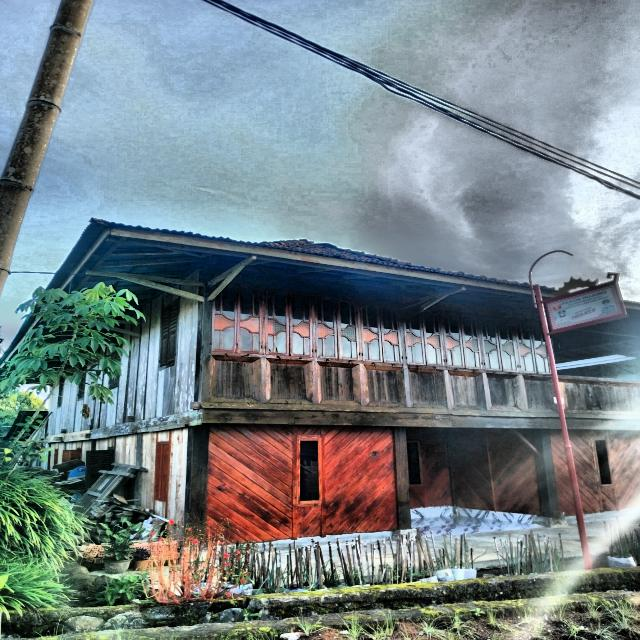ornamen: (558, 379, 640, 415), (209, 355, 261, 402), (266, 358, 314, 404), (317, 361, 361, 405), (363, 364, 407, 407), (408, 368, 449, 409), (448, 370, 487, 410), (486, 373, 523, 412), (523, 375, 559, 413)
roof: (48, 219, 529, 292)
wall: (209, 274, 408, 413), (207, 424, 399, 543), (404, 302, 559, 416), (127, 292, 197, 420), (450, 429, 541, 515), (567, 430, 640, 513), (140, 428, 187, 526), (407, 428, 454, 509), (48, 377, 95, 435), (93, 353, 127, 429), (49, 440, 92, 471), (95, 434, 137, 465)
window: (211, 285, 262, 354), (265, 288, 313, 357), (314, 294, 360, 360), (360, 301, 403, 364), (443, 311, 483, 369), (404, 309, 444, 366), (479, 316, 518, 372), (515, 321, 552, 374), (297, 437, 321, 504), (159, 301, 177, 367), (594, 437, 614, 487), (155, 444, 169, 499), (408, 440, 424, 487)
